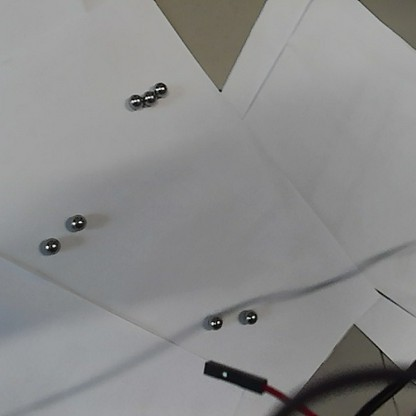ironball: (126, 93, 144, 113), (68, 213, 88, 231), (43, 236, 60, 254), (206, 313, 222, 330), (152, 81, 169, 95), (143, 90, 157, 105), (244, 308, 256, 323)
